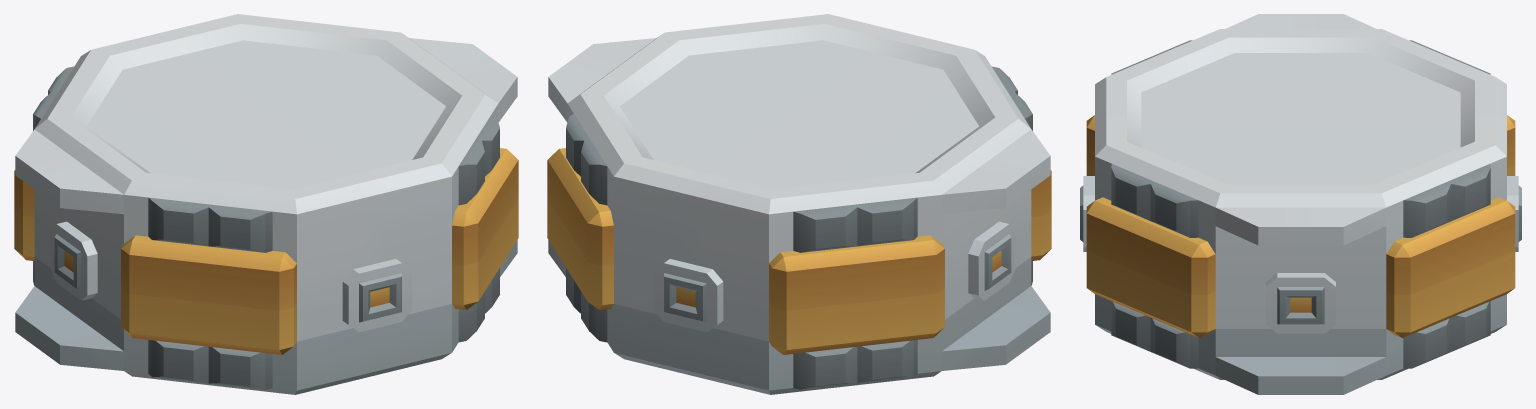
Rendered from kay-modulo-alojamento.gltf.
3 renders of one model, left to right at view 1: azimuth 30°, elevation 25°; view 2: azimuth 150°, elevation 25°; view 3: azimuth 270°, elevation 25°, orthographic. The views are drawn at different scales.
Parts seen in each view (by area): view 1: basemodule_D; view 2: basemodule_D; view 3: basemodule_D.
Boxes of the visible parts, box(x1,y1,x2,y2) form: basemodule_D: box(14, 14, 518, 394); basemodule_D: box(547, 14, 1051, 394); basemodule_D: box(1080, 14, 1521, 394).
Bounding box in the file's own units: 6.36 × 2.6 × 5.58.
Materials: 1 (1 with a texture image).
